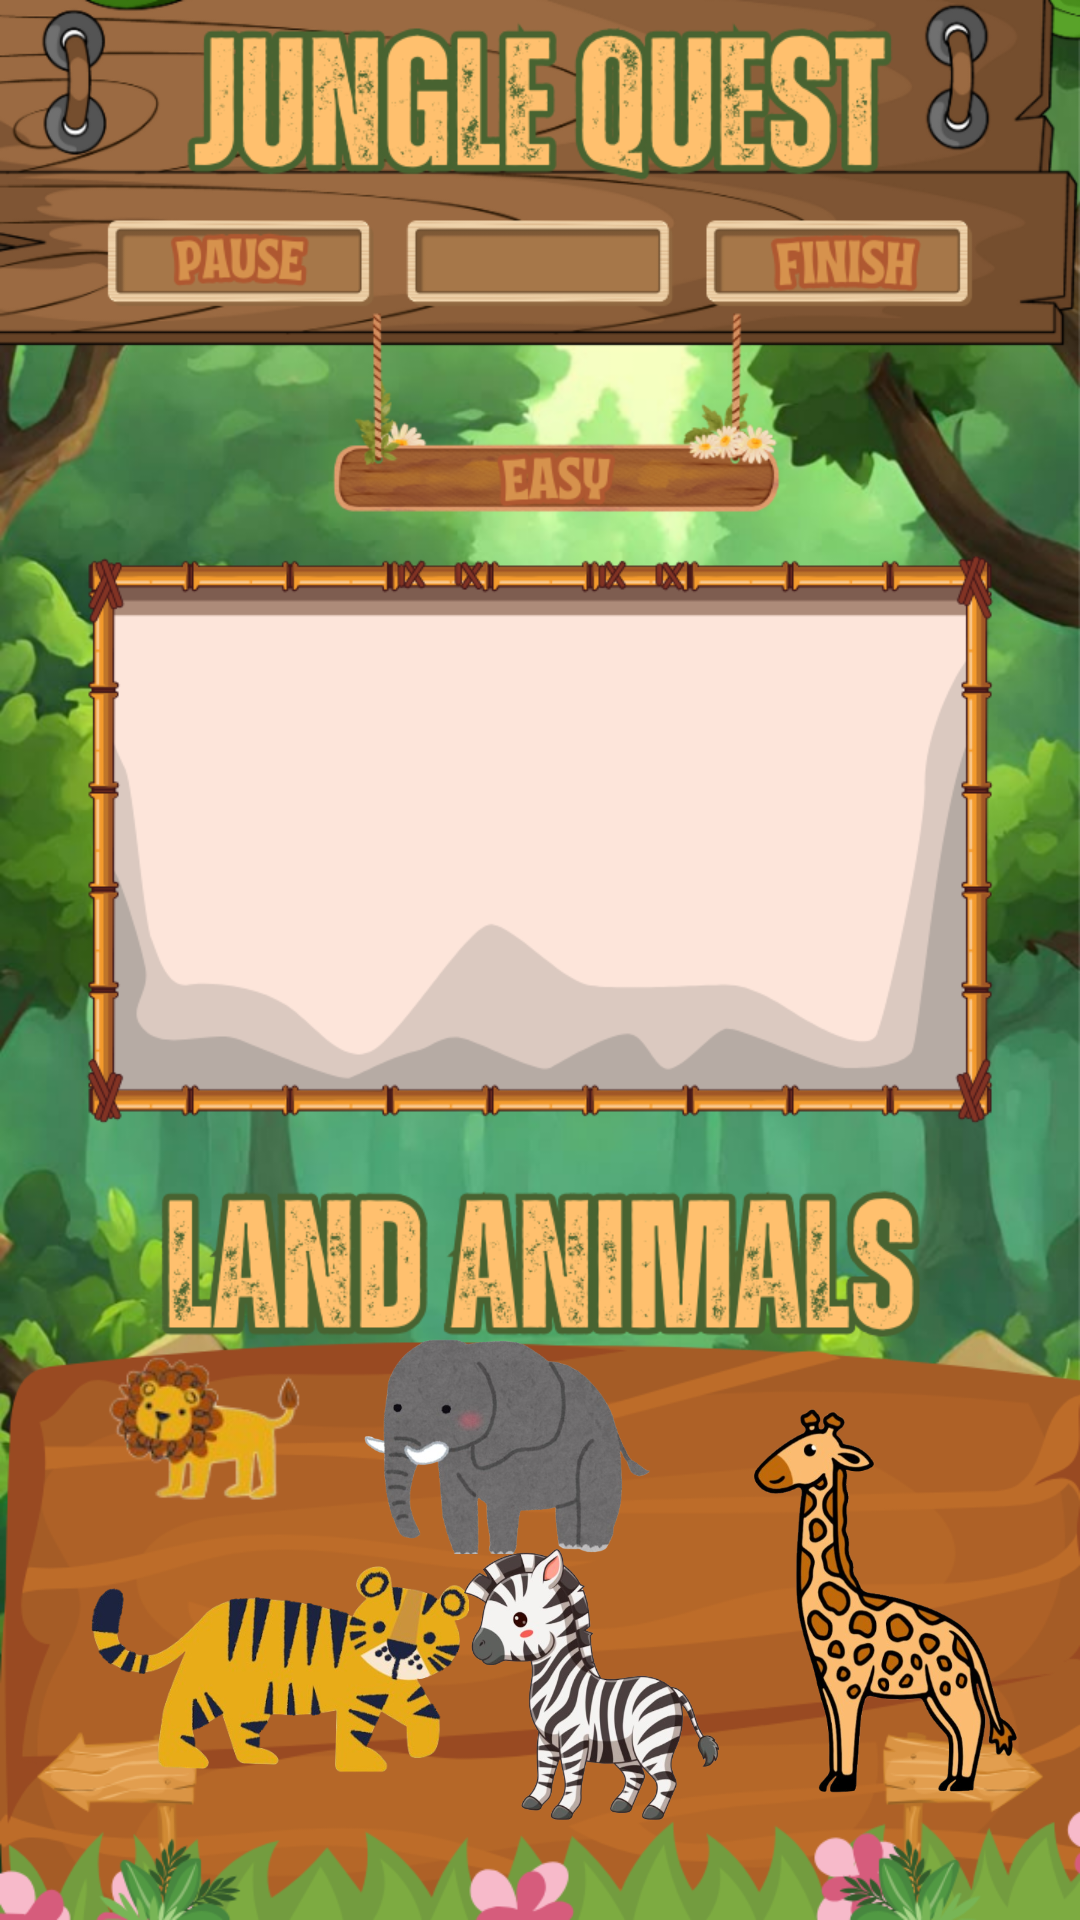

Screen size 1080w x 1920h. Icon name, then its center in pixels as [x,y]:
Draggable Animal: [204,1429]
Draggable Elephant: [510,1444]
Draggable Zebra: [592,1681]
